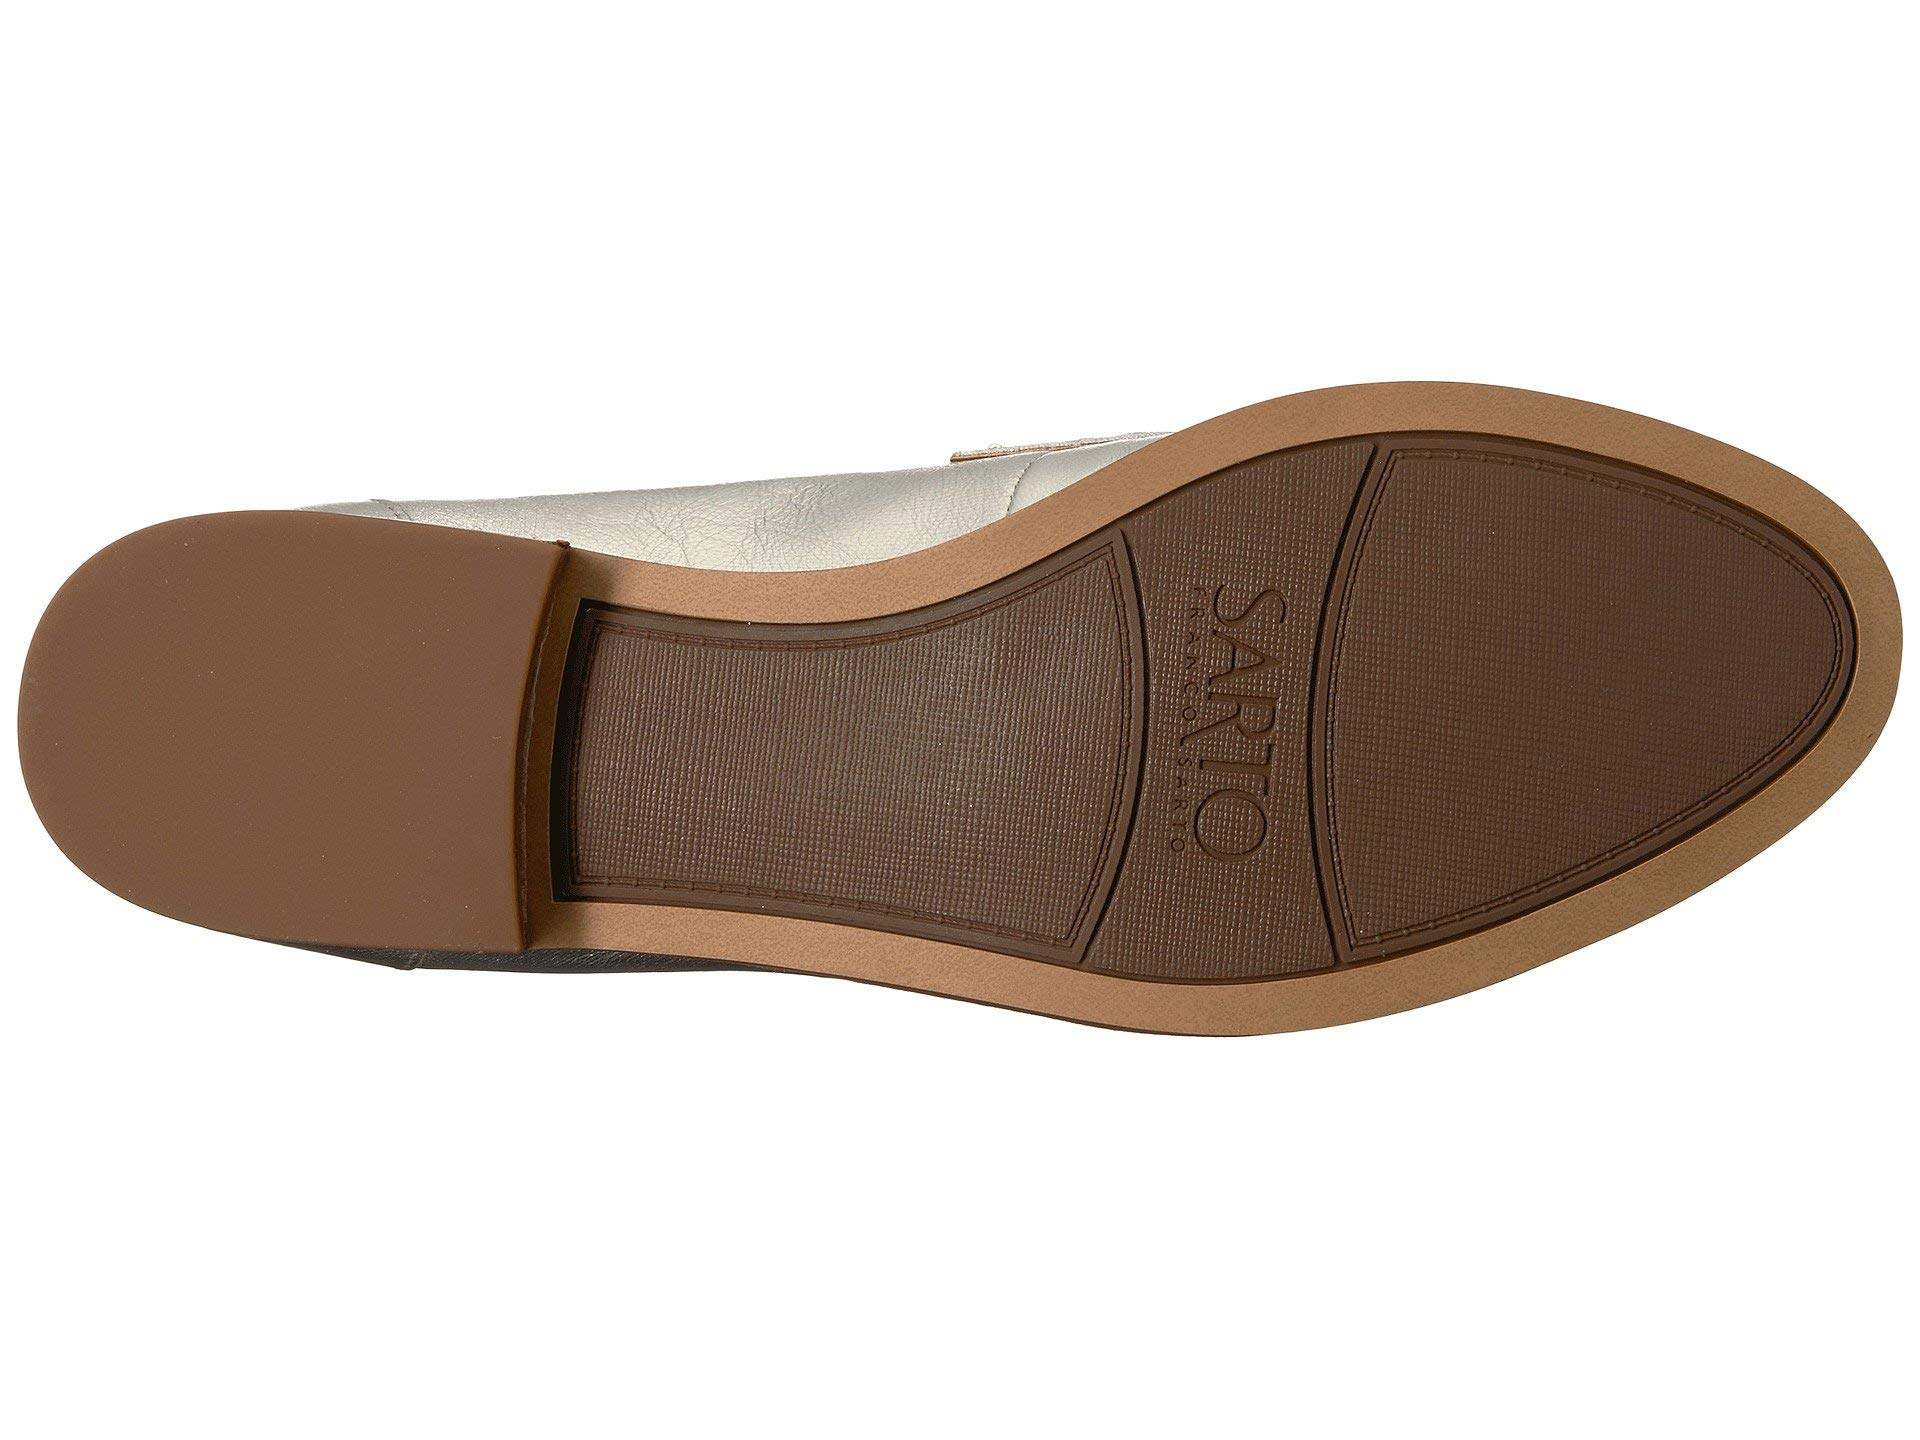circle: (1075, 573, 1457, 924)
line: (1075, 573, 1457, 924)
text: (1075, 573, 1457, 924)
triangle: (1075, 573, 1457, 924)
